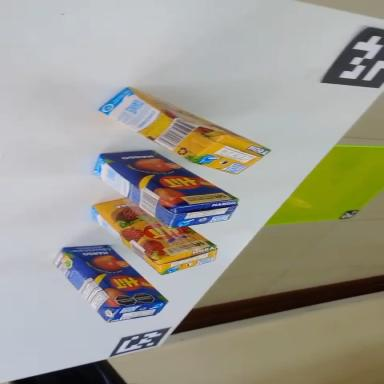HIT-MANGO: (86, 128, 240, 251), (46, 223, 169, 344)
HIT-MORA: (94, 79, 271, 190), (82, 177, 221, 295)
cara_F: (97, 129, 239, 232), (84, 187, 218, 279), (60, 224, 168, 328)
